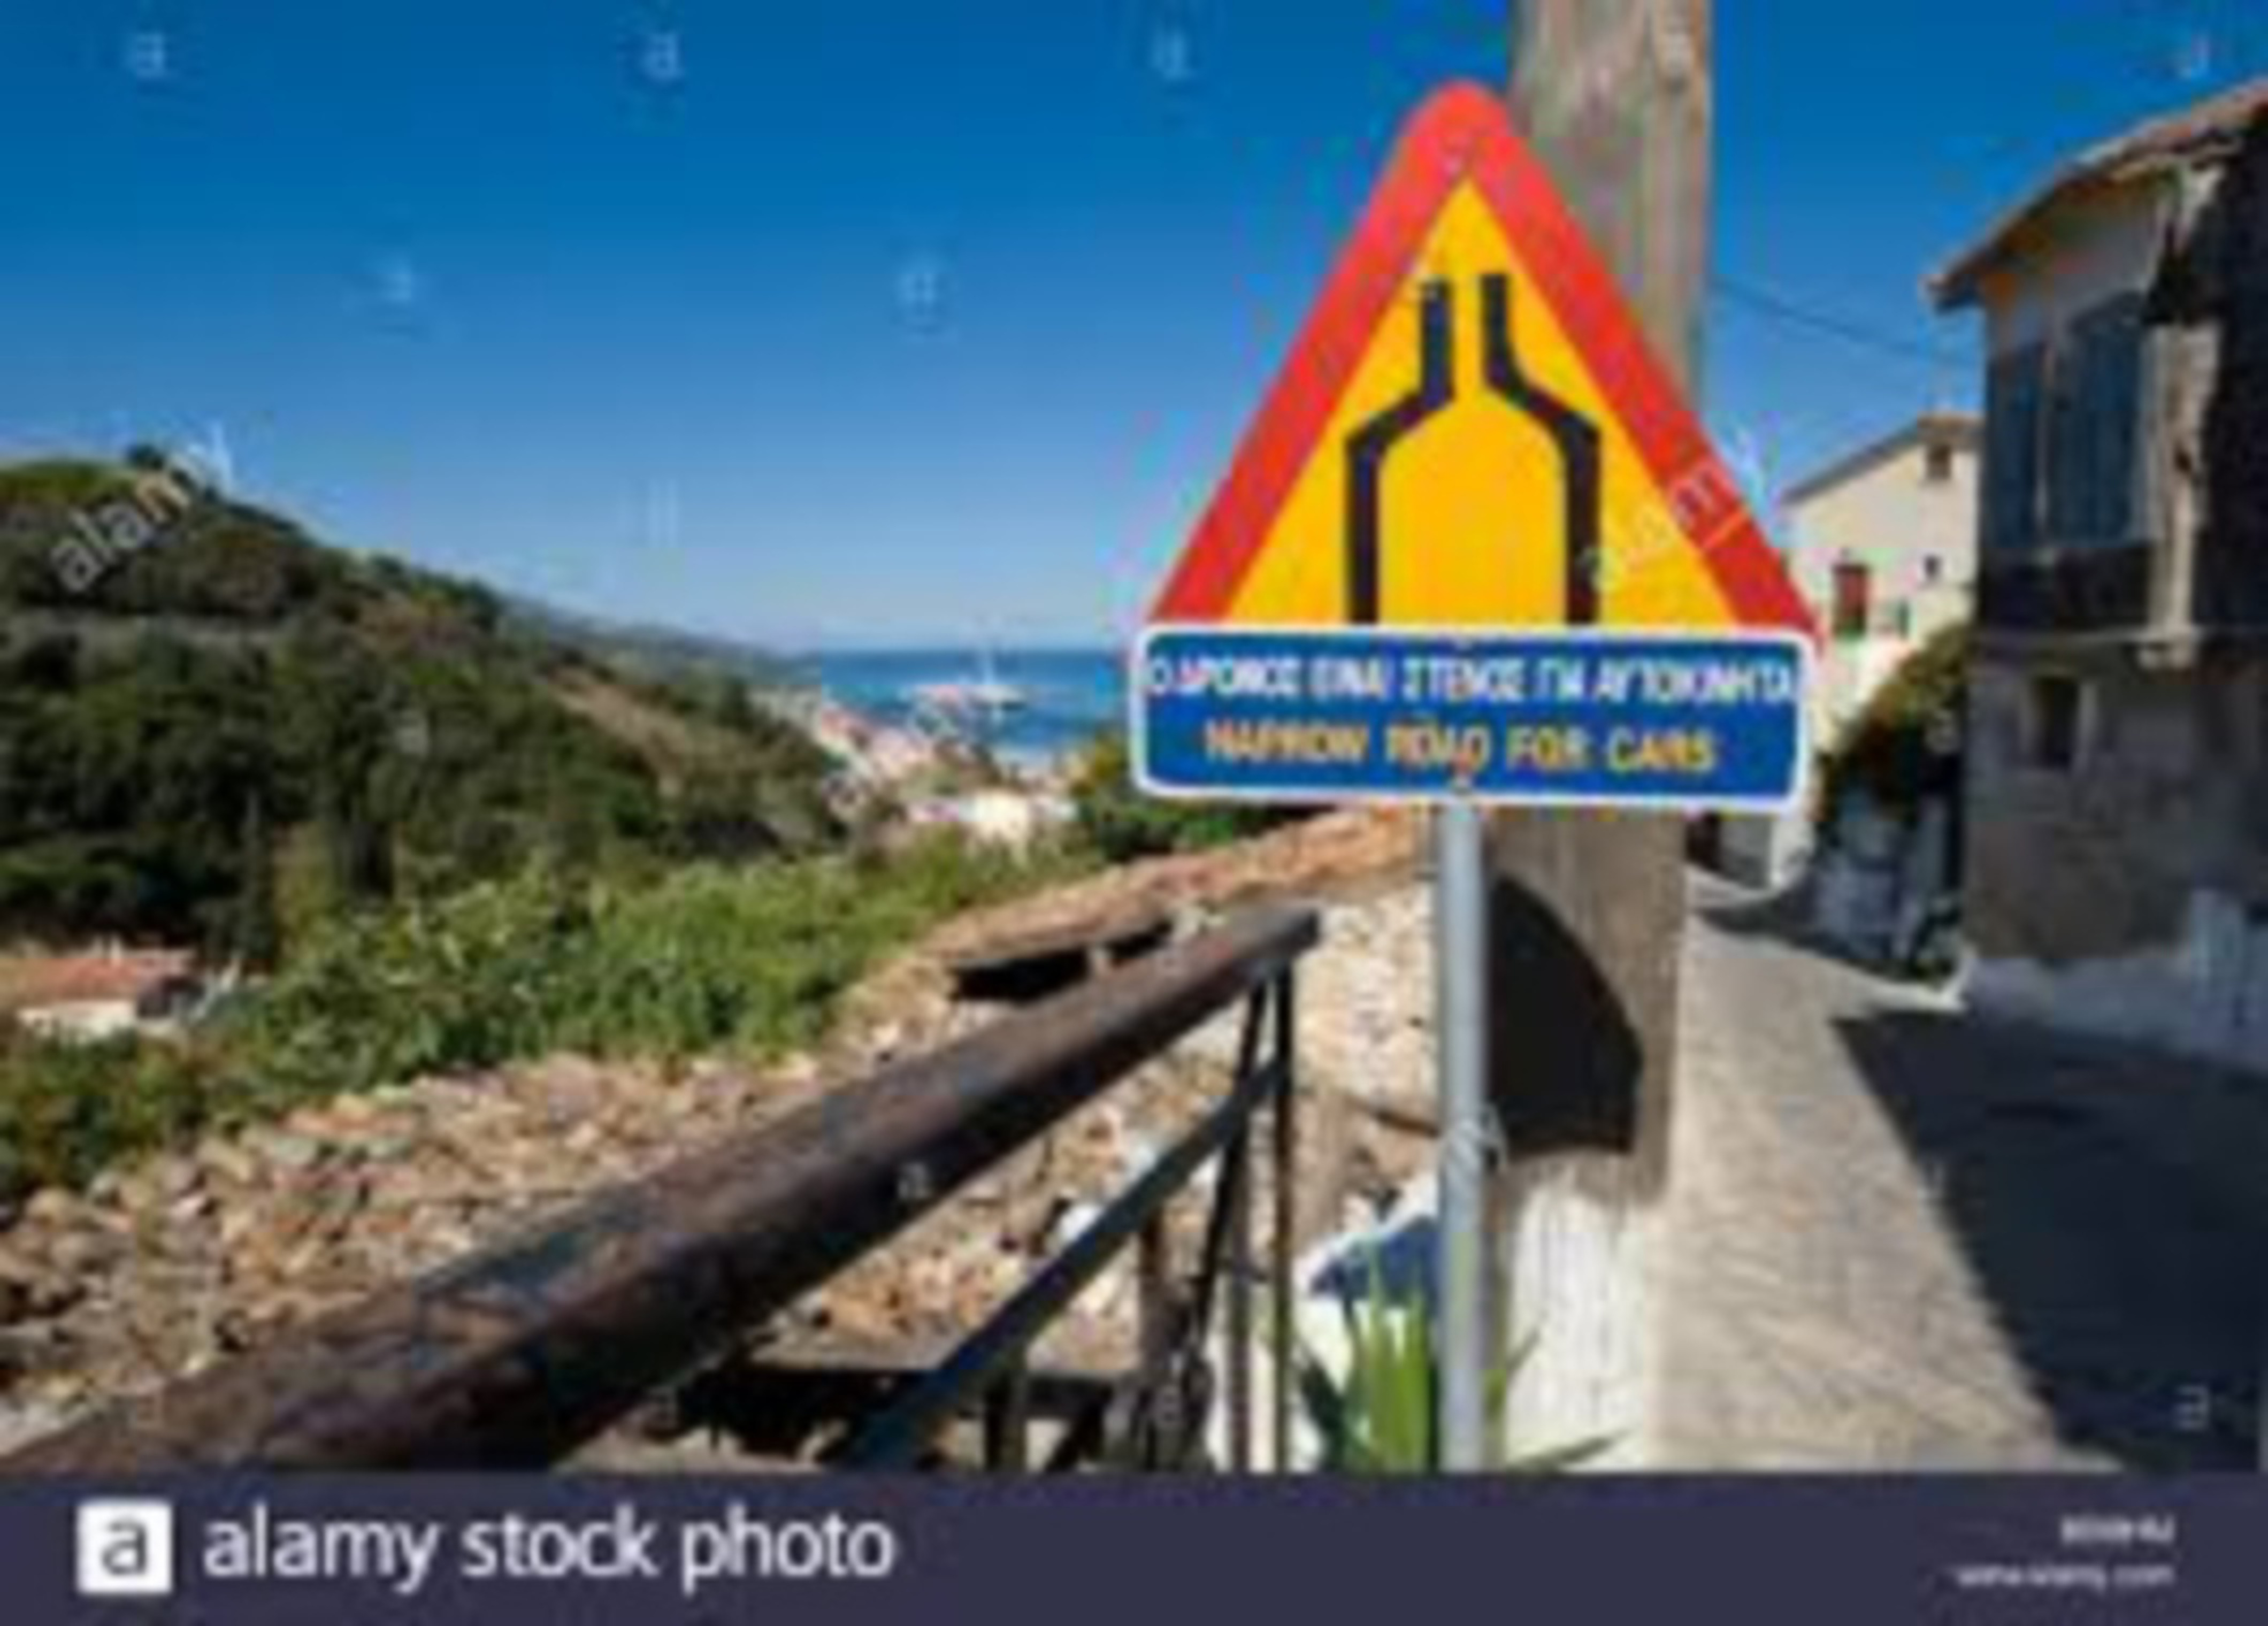Narrow_road: (1121, 97, 1863, 653)
